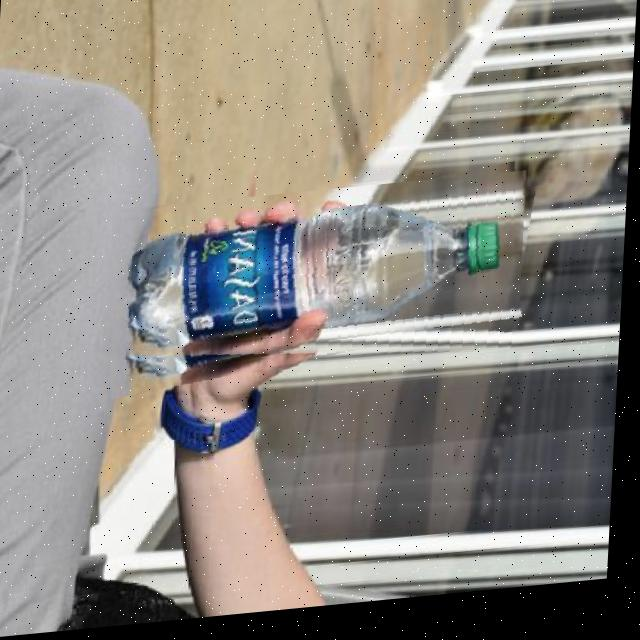plasticbottle: (103, 181, 528, 393)
plasticbottlecap: (413, 192, 534, 348)
